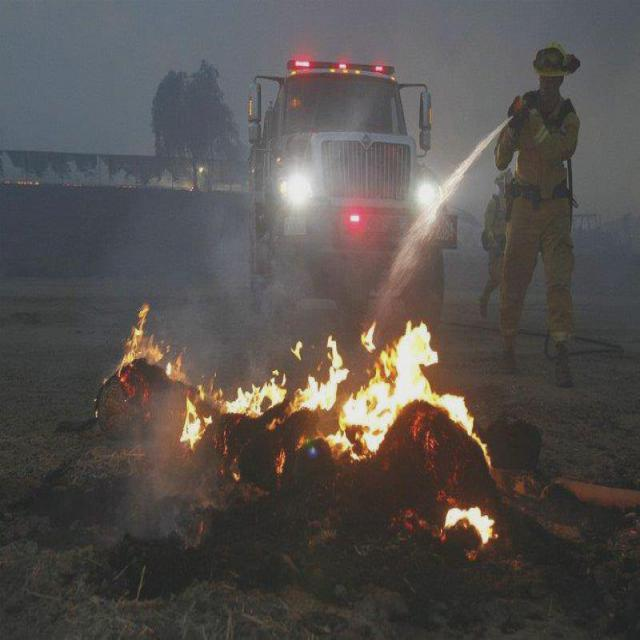Fire: (178, 314, 509, 480), (113, 296, 188, 386), (444, 498, 497, 549)
